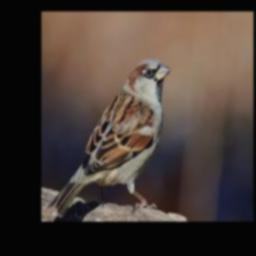Sparrow: (56, 58, 170, 218)
